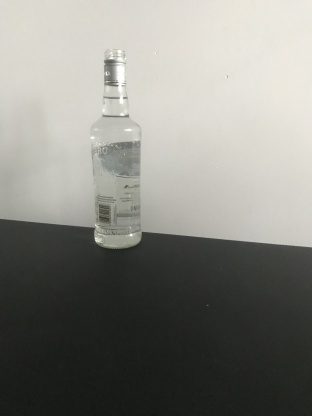nakretka: (101, 46, 128, 88)
